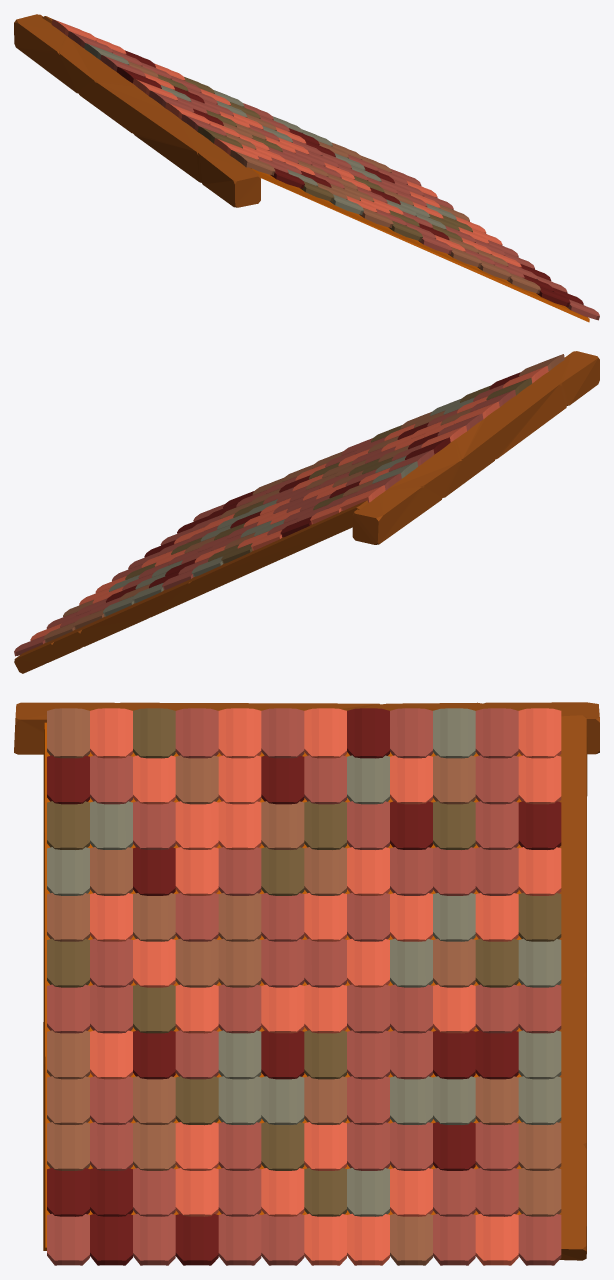
Rendered from HalfRoofOnePillar.fbx.
3 views of the same model, one above another, from view 1: azimuth 30°, elevation 25°; view 2: azimuth 150°, elevation 25°; view 3: azimuth 270°, elevation 25° (orthographic). The views are drawn at different scales.
Visible parts, largest first — view 1: HalfRoofOnePillar_LOD0; view 2: HalfRoofOnePillar_LOD0; view 3: HalfRoofOnePillar_LOD0.
Part boxes in pixels (<box>): HalfRoofOnePillar_LOD0: <box>14,14,599,322</box>; HalfRoofOnePillar_LOD0: <box>14,351,599,673</box>; HalfRoofOnePillar_LOD0: <box>14,702,599,1265</box>.
Size of what is drawn, in the model's own units: 2032 by 1291 by 2046.
